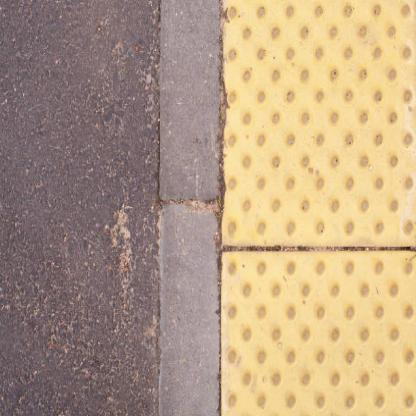podotacti: (220, 0, 416, 416)
